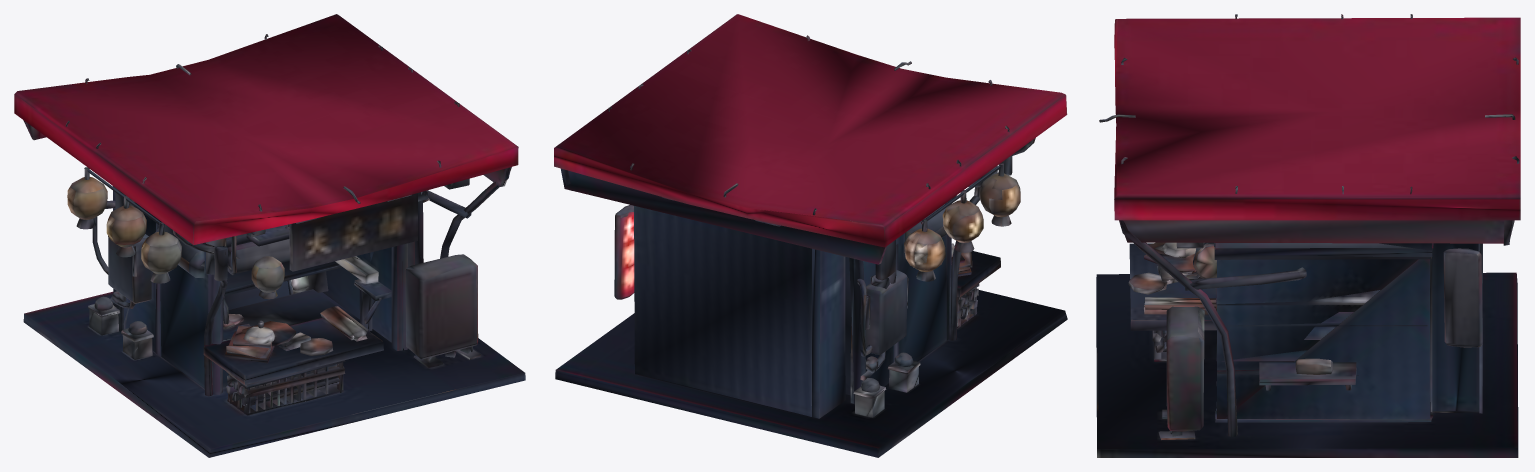
The model's file is MarketKiosk.glb.
The picture shows the model from 3 angles, left to right: view 1: azimuth 30°, elevation 25°; view 2: azimuth 150°, elevation 25°; view 3: azimuth 270°, elevation 25°; orthographic projection. The views are drawn at different scales.
Visible parts, largest first — view 1: Mesh_0; view 2: Mesh_0; view 3: Mesh_0.
Boxes of the visible parts, x1,y1,x2,y2 form: Mesh_0: [14, 14, 525, 457]; Mesh_0: [554, 14, 1067, 457]; Mesh_0: [1096, 14, 1520, 457].
Bounding box in the file's own units: 4.2 × 2.99 × 4.19.
1 material, 1 textured.
